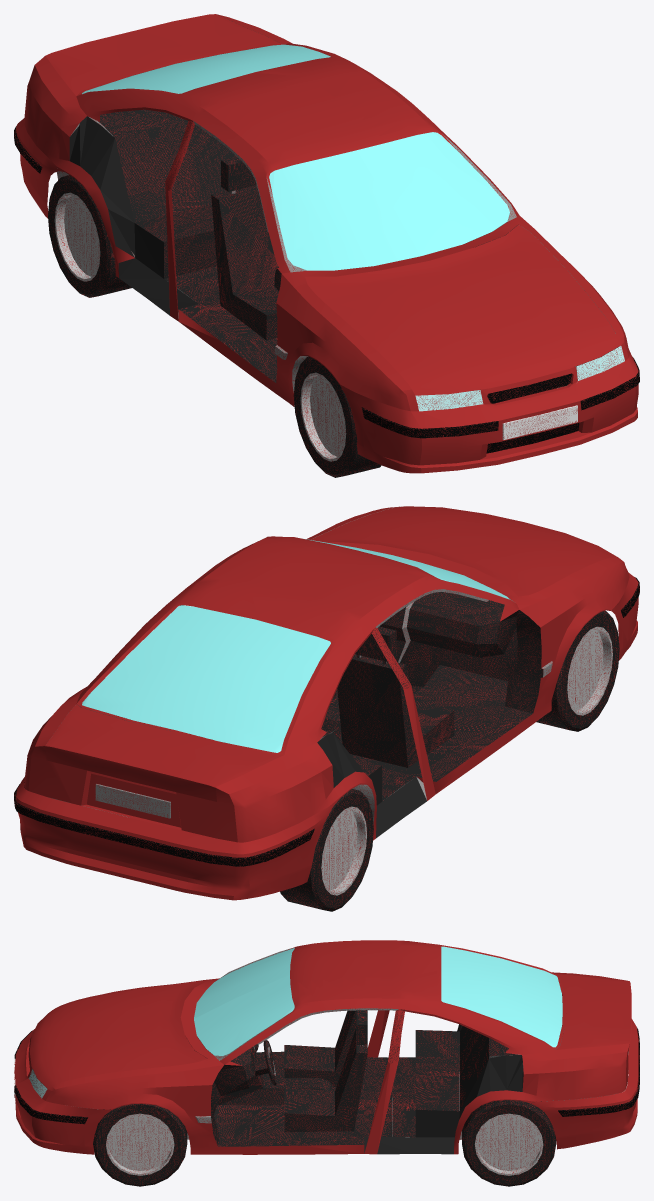
Rendered from CarBody.dae.
3 renders of one model, top to bottom at view 1: azimuth 30°, elevation 25°; view 2: azimuth 150°, elevation 25°; view 3: azimuth 270°, elevation 25°, orthographic. The views are drawn at different scales.
Parts seen in each view (by area): view 1: group_0 (×18), instance_0, instance_1; view 2: group_0 (×14), instance_1, instance_0; view 3: group_0 (×22), instance_1, instance_0.
Part boxes in pixels (box(x1,y1,x2,y2)): group_0 (×18): box(16, 14, 639, 477); instance_0: box(269, 132, 509, 270); instance_1: box(82, 44, 330, 94); group_0 (×14): box(14, 506, 638, 911); instance_1: box(82, 605, 330, 752); instance_0: box(303, 538, 509, 599); group_0 (×22): box(14, 940, 639, 1186); instance_1: box(441, 946, 562, 1047); instance_0: box(194, 948, 294, 1055).
Size of the model in its own units: 69.12 by 180 by 54.51.
